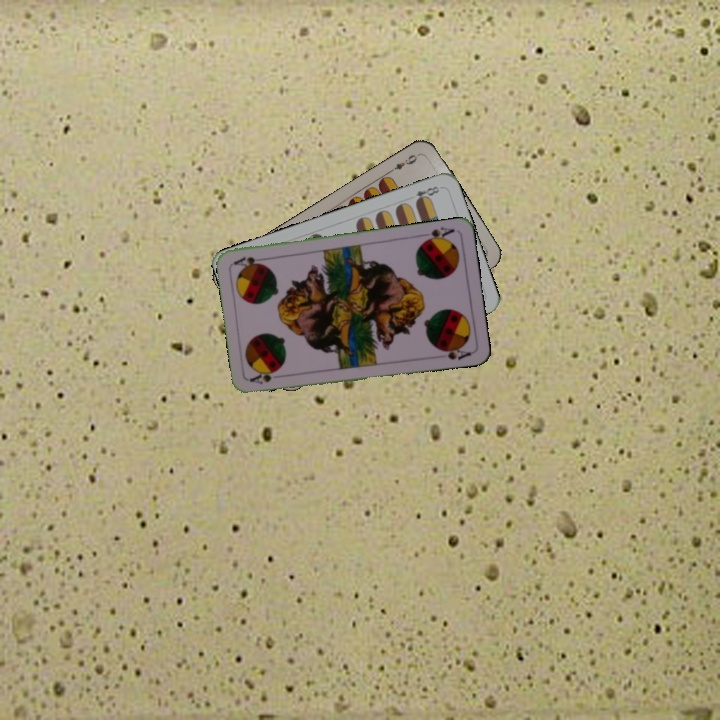E8: (411, 182, 444, 206)
E9: (385, 149, 422, 175)
SA: (417, 223, 457, 246), (246, 367, 287, 387)
